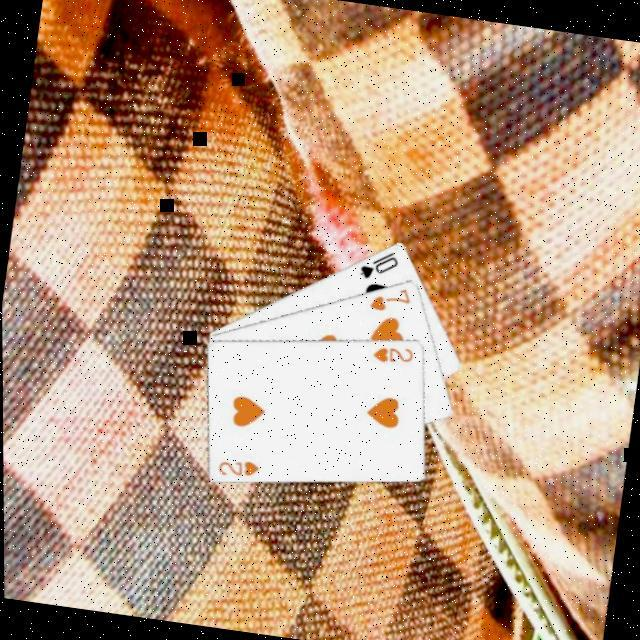10S: (354, 242, 402, 284)
2H: (366, 338, 415, 368), (212, 450, 261, 480)
7H: (364, 278, 414, 316)
